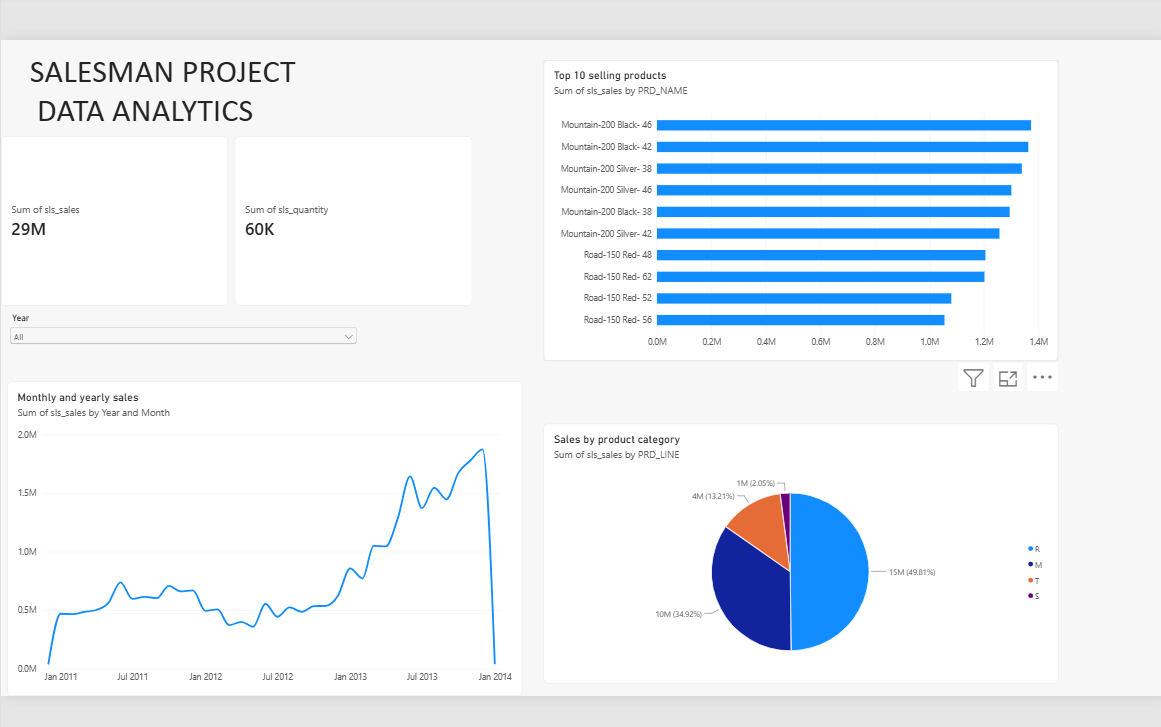

This screenshot's page, from the dashboard's own definition file:
{"tool":"powerbi","page":{"name":"Page 1","canvas":[1920,1080],"ordinal":0},"visuals":[{"type":"cardVisual","fields":{"Data":["Sum(sales_table.sls_sales)"]},"box":[0,158.5,374.6,279.9],"z":0},{"type":"cardVisual","fields":{"Data":["Sum(sales_table.sls_quantity)"]},"box":[384.9,158.5,391.1,279.9],"z":1000},{"type":"lineChart","title":"Monthly and yearly sales","fields":{"Category":["sales_table.sls_order_dt_fixed.Variation.Date Hierarchy.Year","sales_table.sls_order_dt_fixed.Variation.Date Hierarchy.Month"],"Y":["Sum(sales_table.sls_sales)"]},"box":[10.3,561.9,848,518.7],"z":2000},{"type":"barChart","title":"Top 10 selling products","fields":{"Category":["sales_table.PRD_NAME"],"Y":["Sum(sales_table.sls_sales)"]},"box":[893.3,32.9,848,496.1],"z":3000},{"type":"slicer","fields":{"Values":["sales_table.sls_order_dt_fixed.Variation.Date Hierarchy.Year"]},"box":[10.3,448.7,580.4,113.2],"z":4000},{"type":"pieChart","title":"Sales by product category","fields":{"Category":["sales_table.PRD_LINE"],"Y":["Sum(sales_table.sls_sales)"]},"box":[893.3,631.9,848,428.1],"z":5000},{"type":"textbox","box":[47.3,0,771.9,228.5],"z":6000}]}

Visuals, with their boxes on the page's 1920x1080 design canvas (x1, y1, x2, y2). These are canvas units, not pixel positions in the 1161x727 screenshot, which may show the page scaled, cropped or inside an application window:
cardVisual - Sum(sales_table.sls_sales): 0 158 375 438
cardVisual - Sum(sales_table.sls_quantity): 385 158 776 438
"Monthly and yearly sales" lineChart: 10 562 858 1081
"Top 10 selling products" barChart: 893 33 1741 529
slicer - sales_table.sls_order_dt_fixed.Variation.Date Hierarchy.Year: 10 449 591 562
"Sales by product category" pieChart: 893 632 1741 1060
textbox: 47 0 819 228
